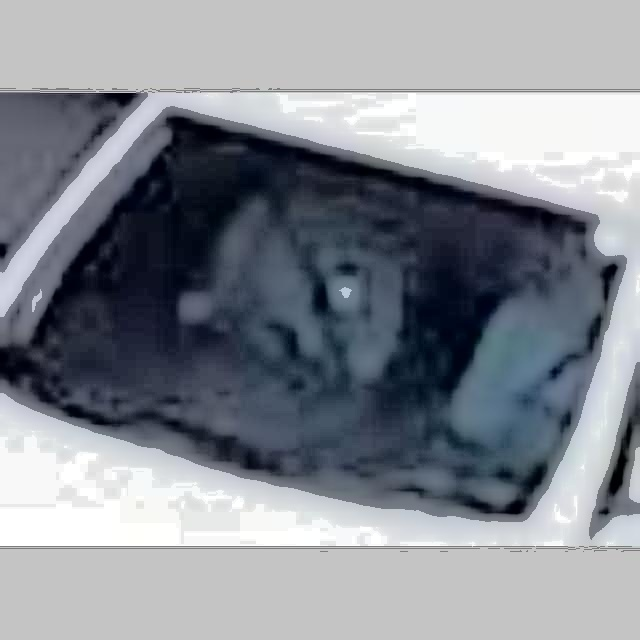pakai: (186, 153, 394, 435), (469, 220, 595, 487)
